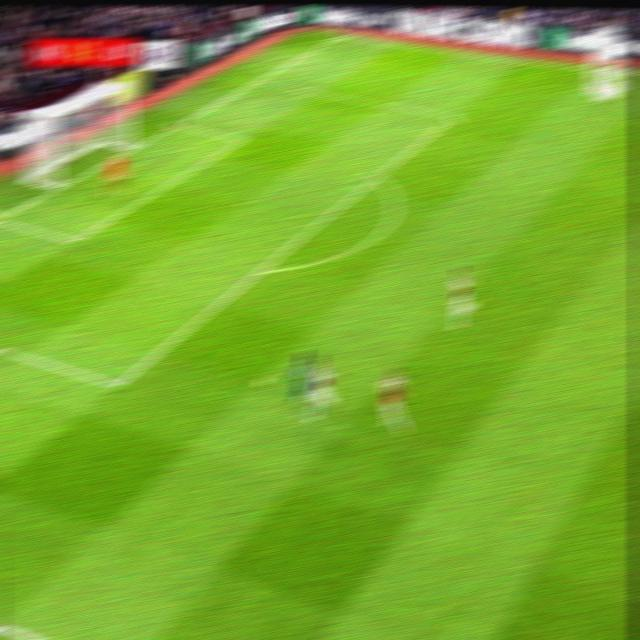bigarea_bottom_inner: (104, 372, 128, 394)
bigarea_top_inner: (440, 105, 461, 124)
bigarea_top_outter: (246, 71, 269, 88)
bottom_arc_area_intersection: (247, 261, 270, 278)
corner: (327, 28, 350, 41)
smallarea_bottom_inner: (59, 226, 84, 251)
smallarea_bottom_outter: (0, 207, 7, 227)
smallarea_top_inner: (230, 128, 251, 147)
smallarea_top_outter: (164, 114, 187, 133)
top_arc_area_intersection: (365, 167, 388, 184)
